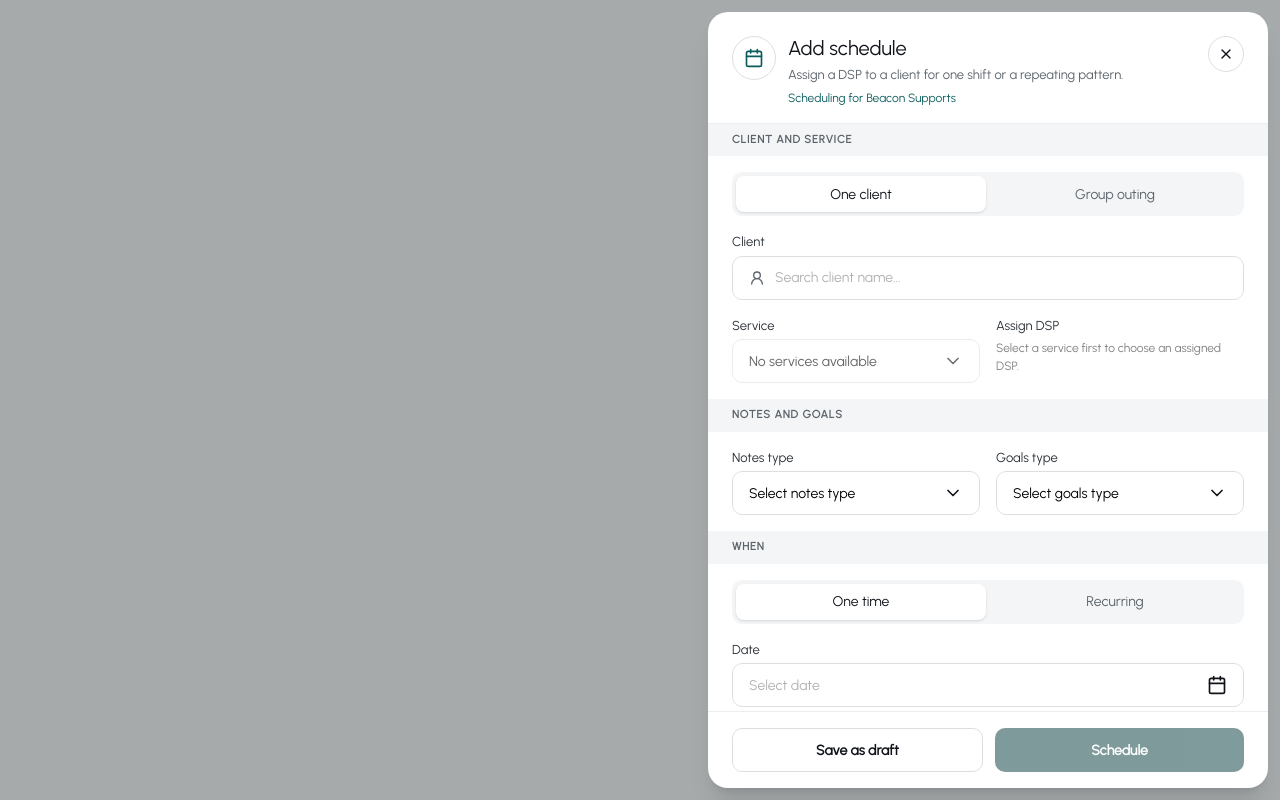
AddScheduleModal operational data boundary › loads selected client context through the injected scoped adapter
Expected: the dialog named "Schedule editor" is shown, [708,12,1268,788]
Expected: the text "Scheduling for Beacon Supports" is shown, [788,90,956,104]
Type "Jam" into the field with placeholder "Search client name..." at (1001, 278), box [775,267,1227,288]
Wait 300 ms
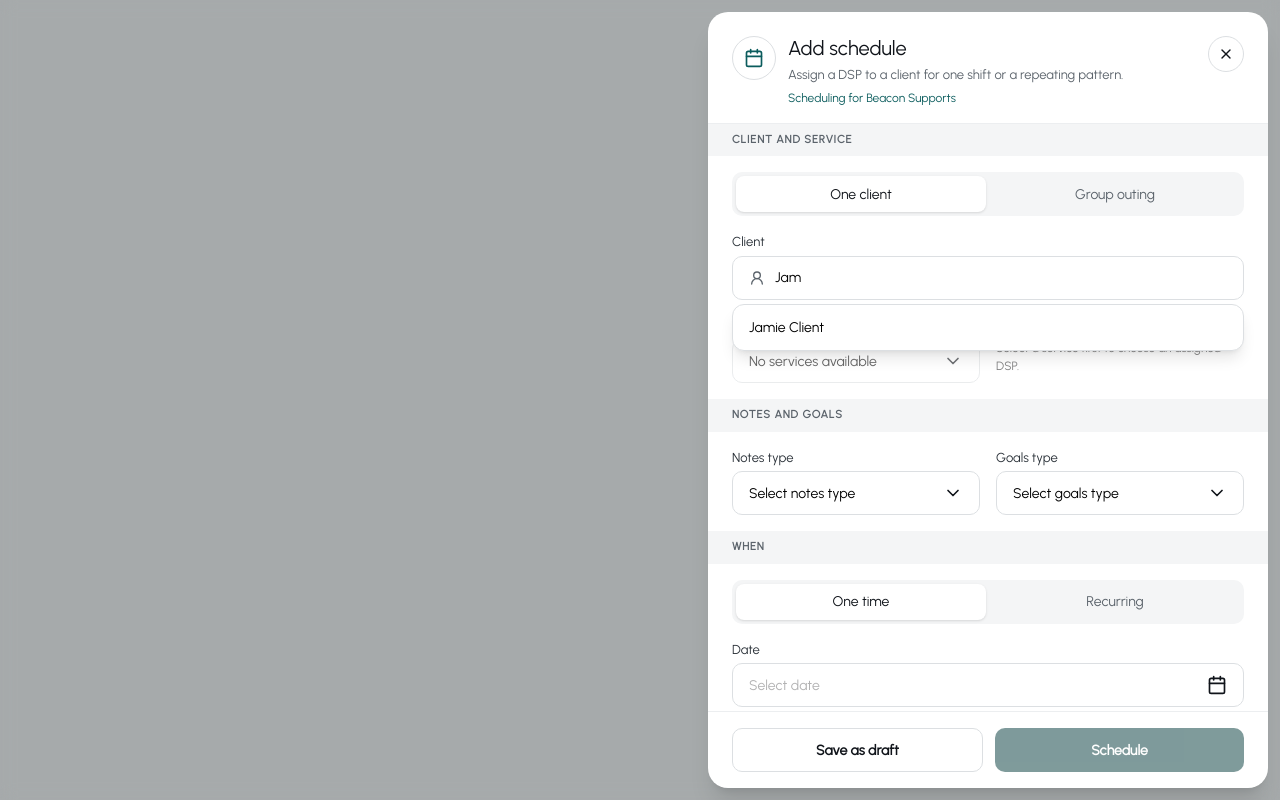
Click the button "Jamie Client" at (787, 327), box [733,304,1243,350]
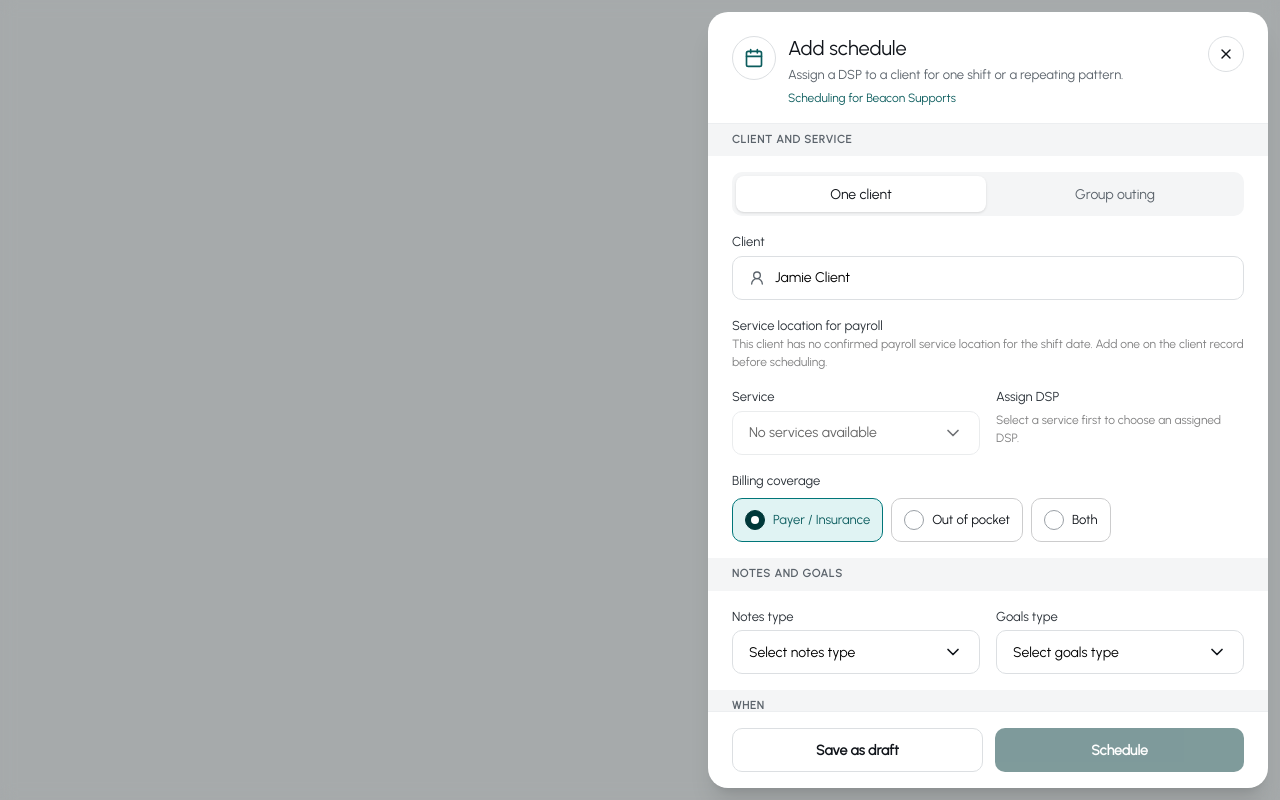
Now the field with placeholder "Search client name..." holds "Jamie Client", box [775,267,1227,288]
